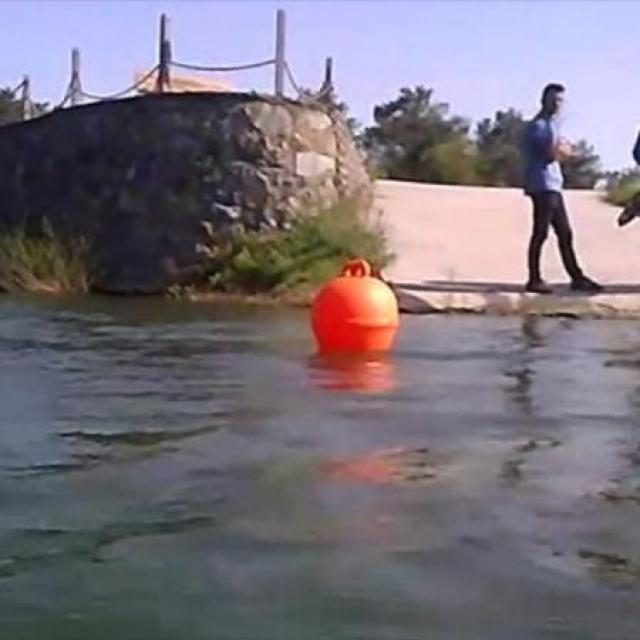buoy: (312, 258, 401, 358)
